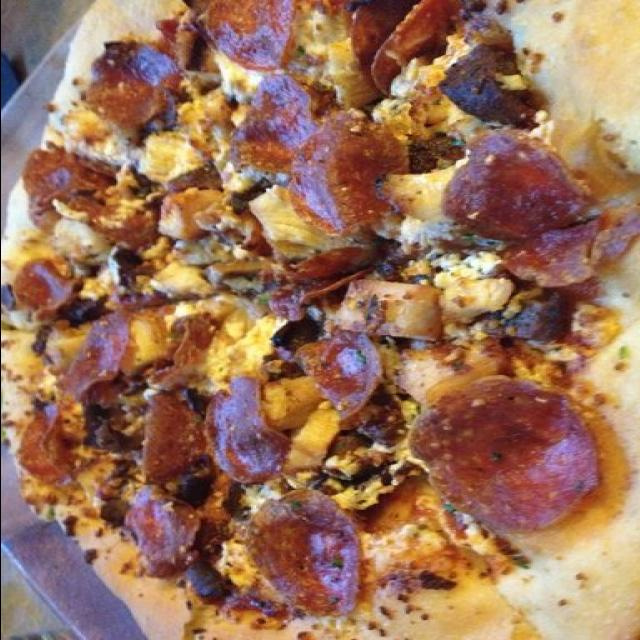pepperoni: (44, 114, 227, 258), (38, 354, 200, 506), (283, 25, 391, 152), (236, 406, 349, 522), (350, 156, 432, 264), (327, 468, 409, 562), (260, 222, 341, 316), (342, 571, 435, 640), (506, 241, 576, 332), (440, 62, 518, 140), (430, 156, 496, 248), (260, 338, 356, 396), (569, 152, 624, 235), (562, 320, 624, 380)
pizza: (0, 0, 640, 640)
